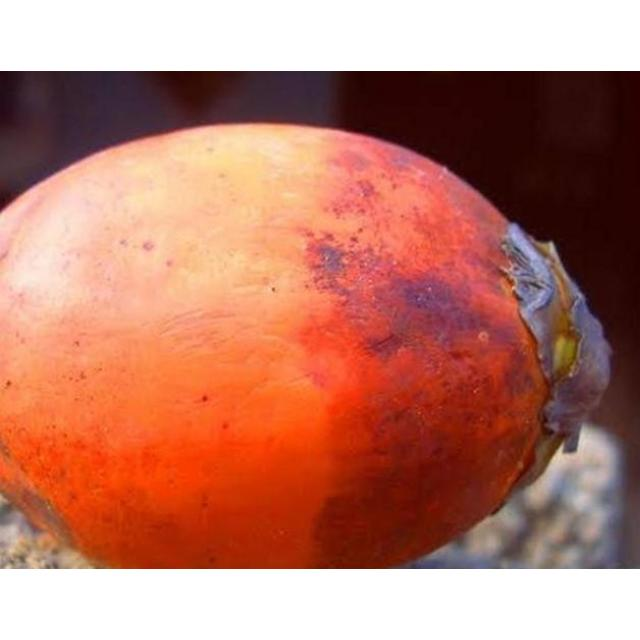good: (0, 124, 610, 568)
